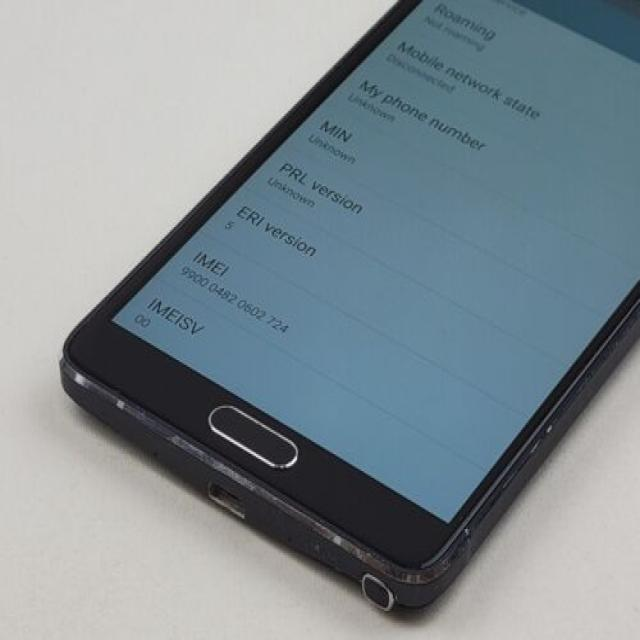Dents: (335, 530, 489, 598)
